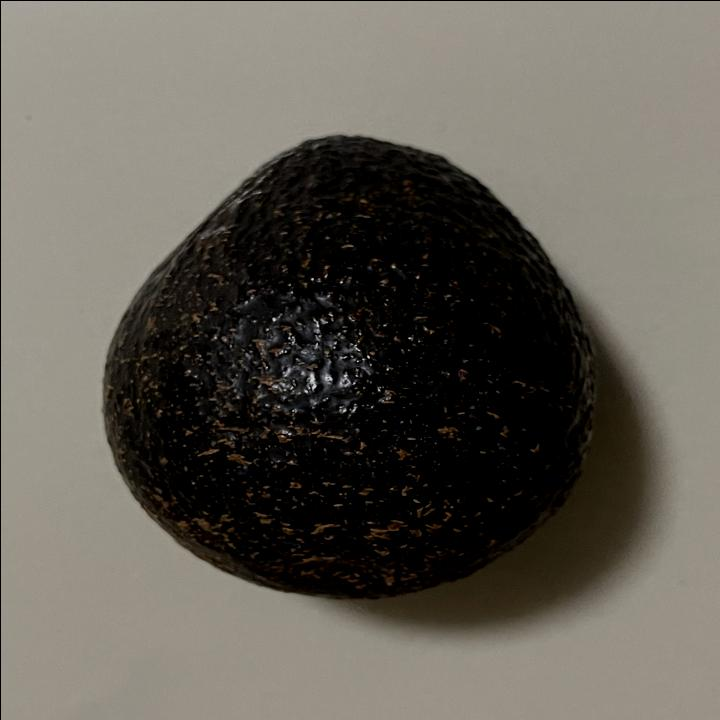Level2: (97, 120, 601, 602)
